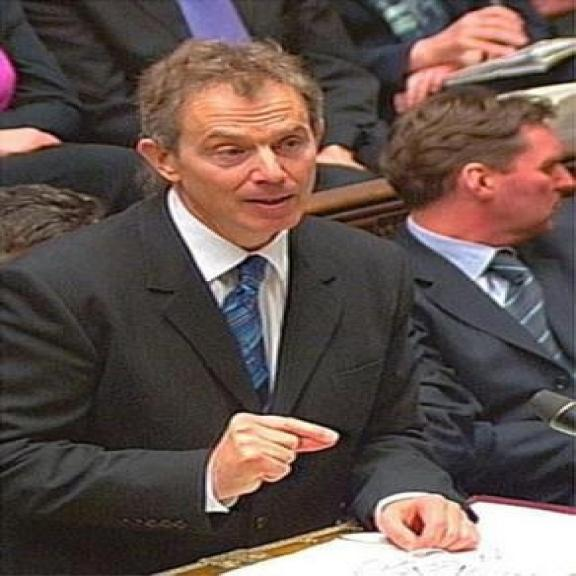face: (128, 81, 327, 234), (457, 119, 576, 250)
